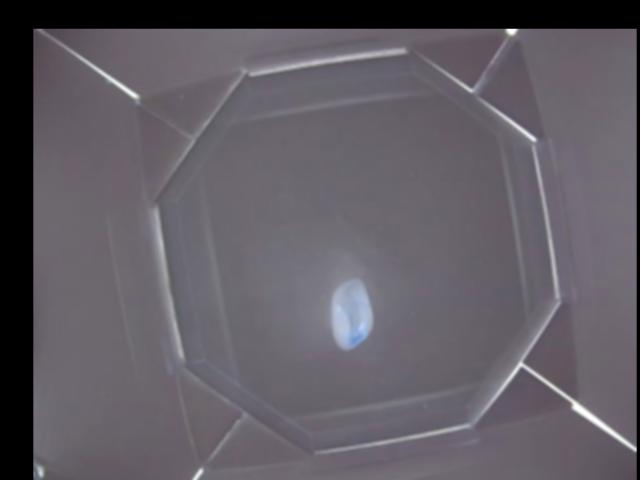Pebble: (332, 278, 372, 354)
